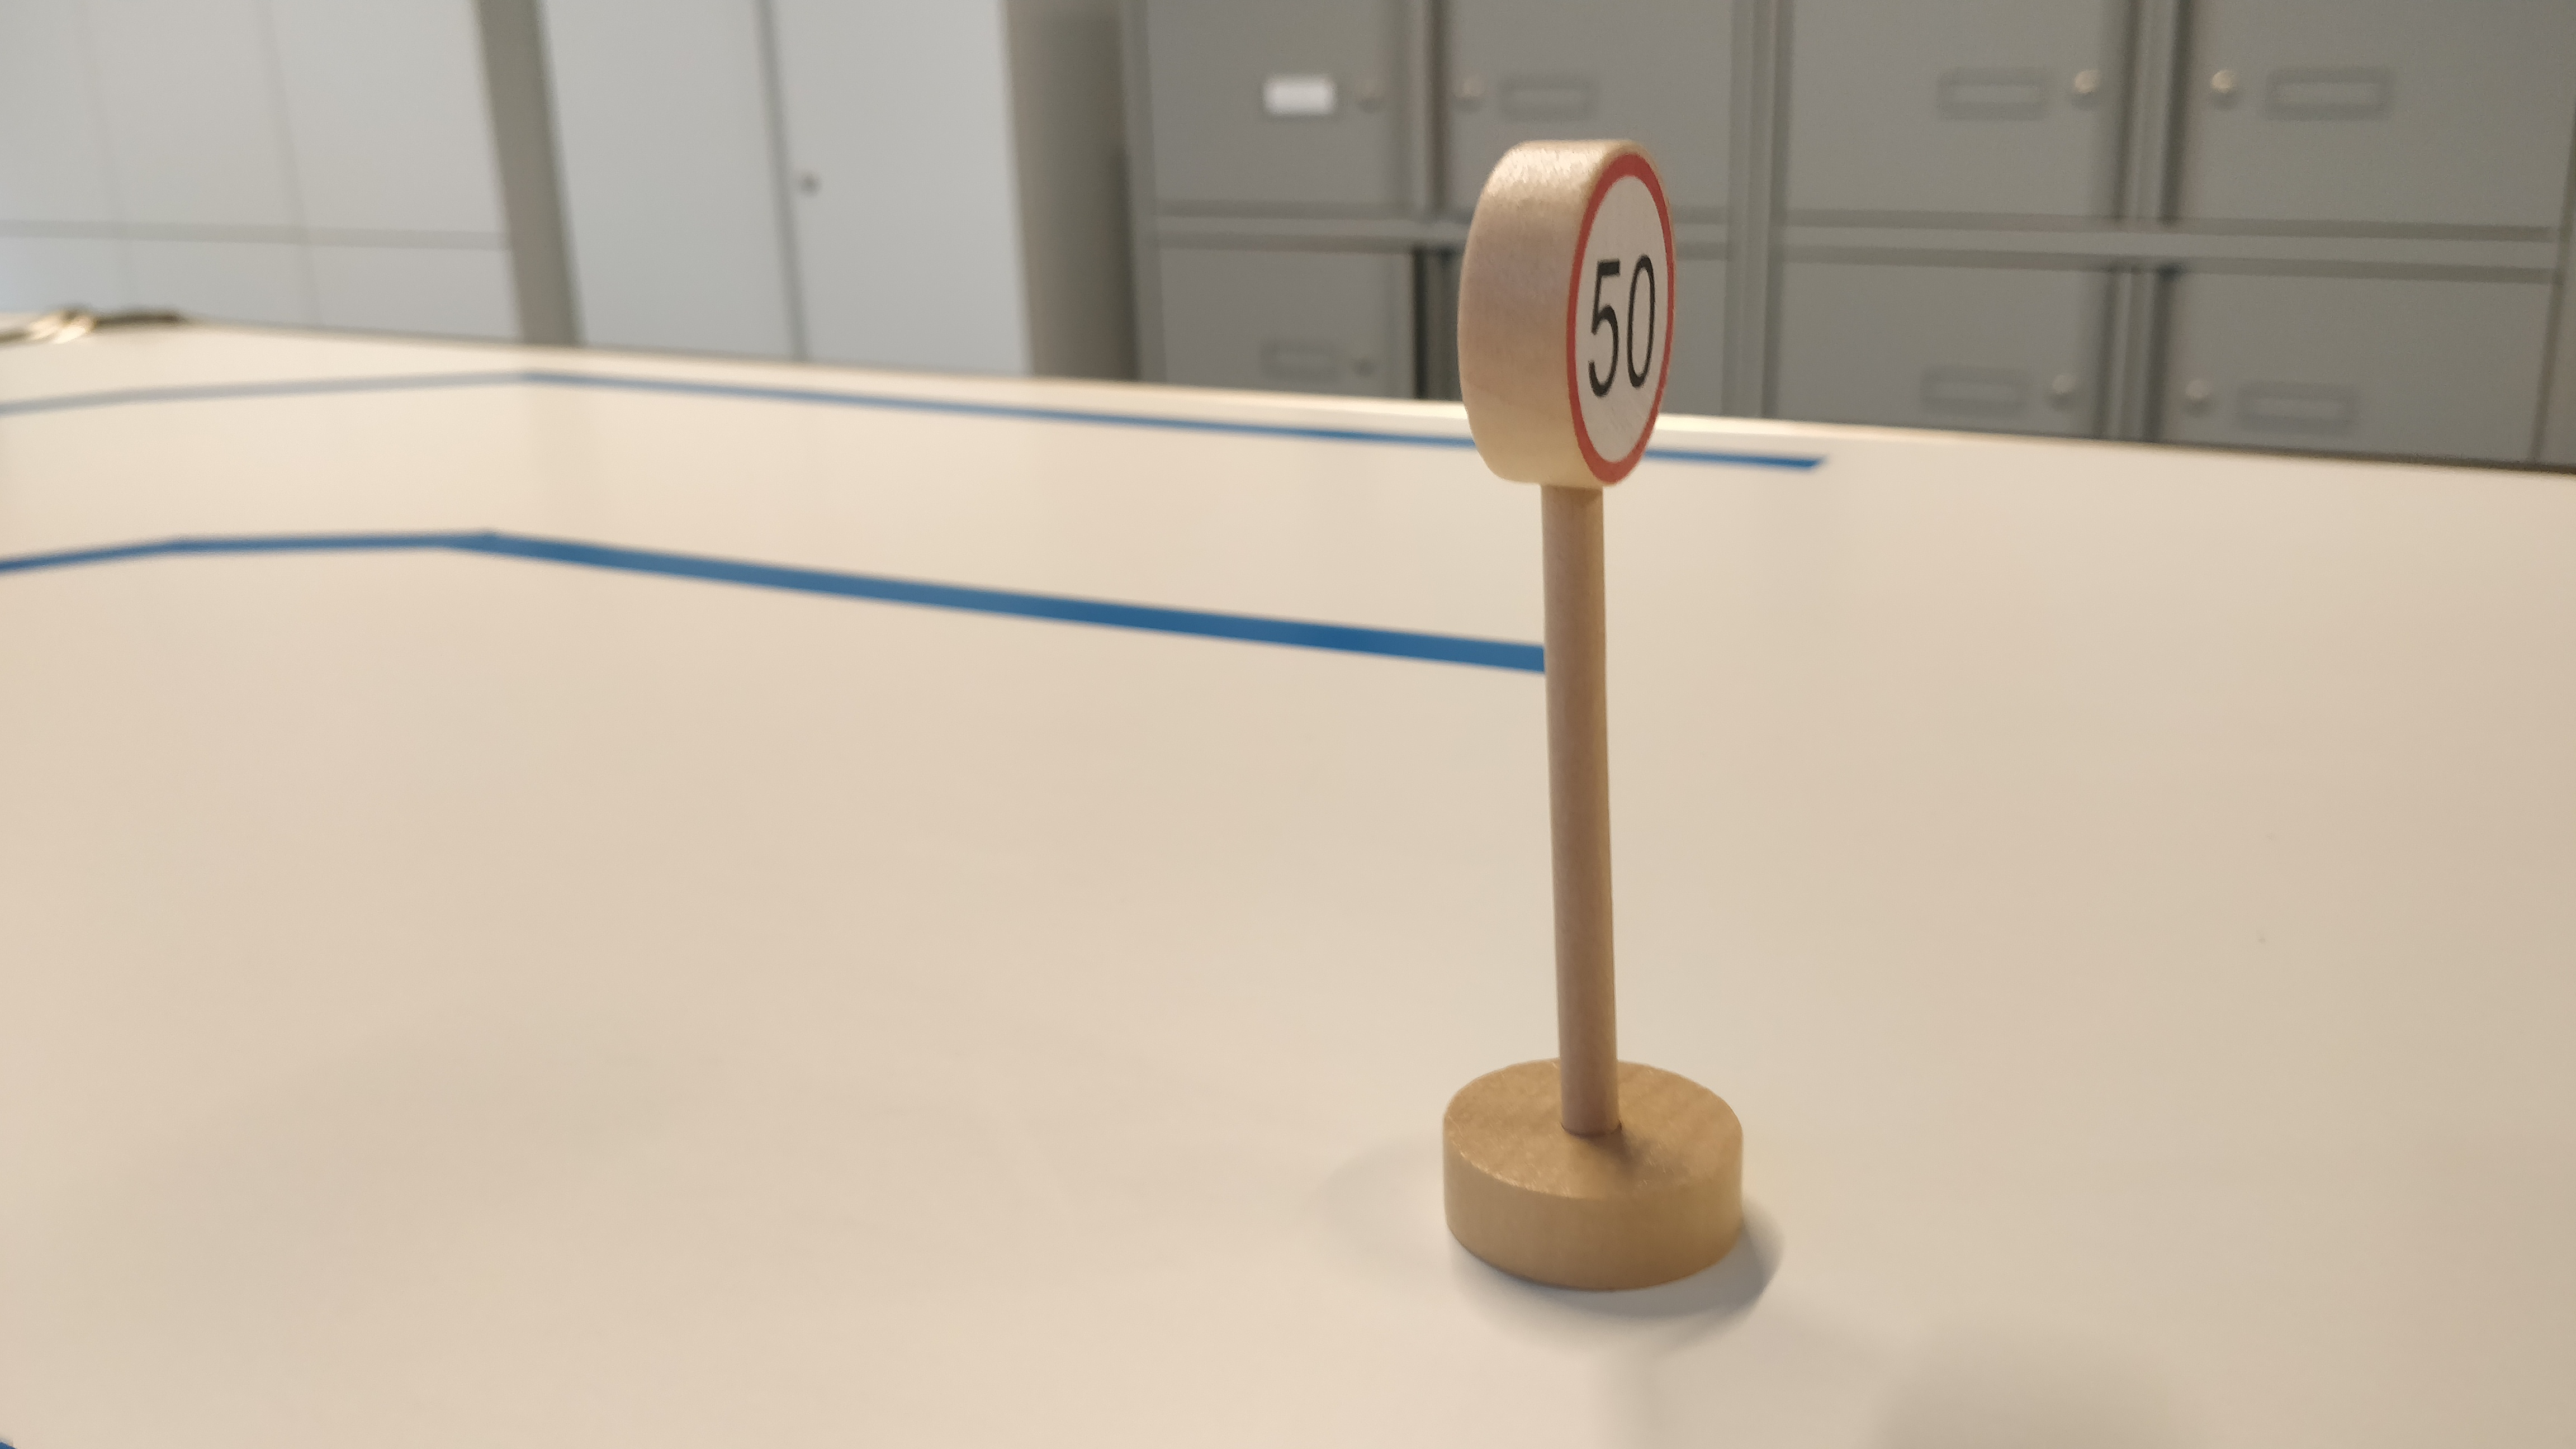Speed Limit 50: (1447, 133, 1679, 497)
